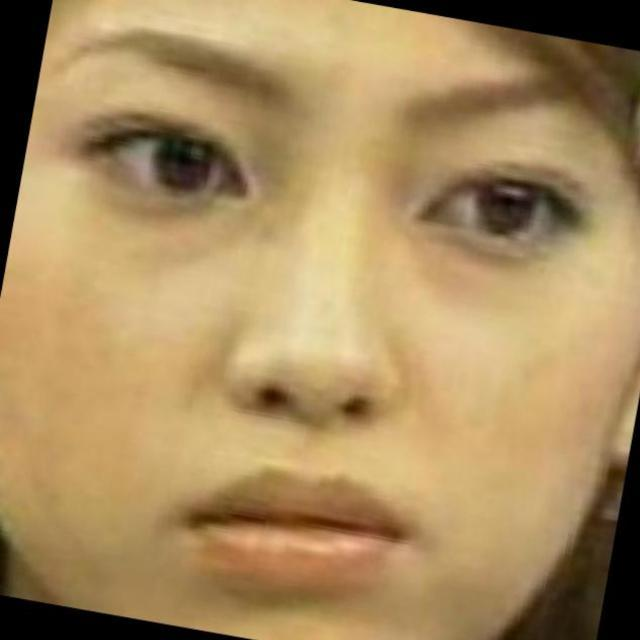angry: (27, 30, 605, 640)
